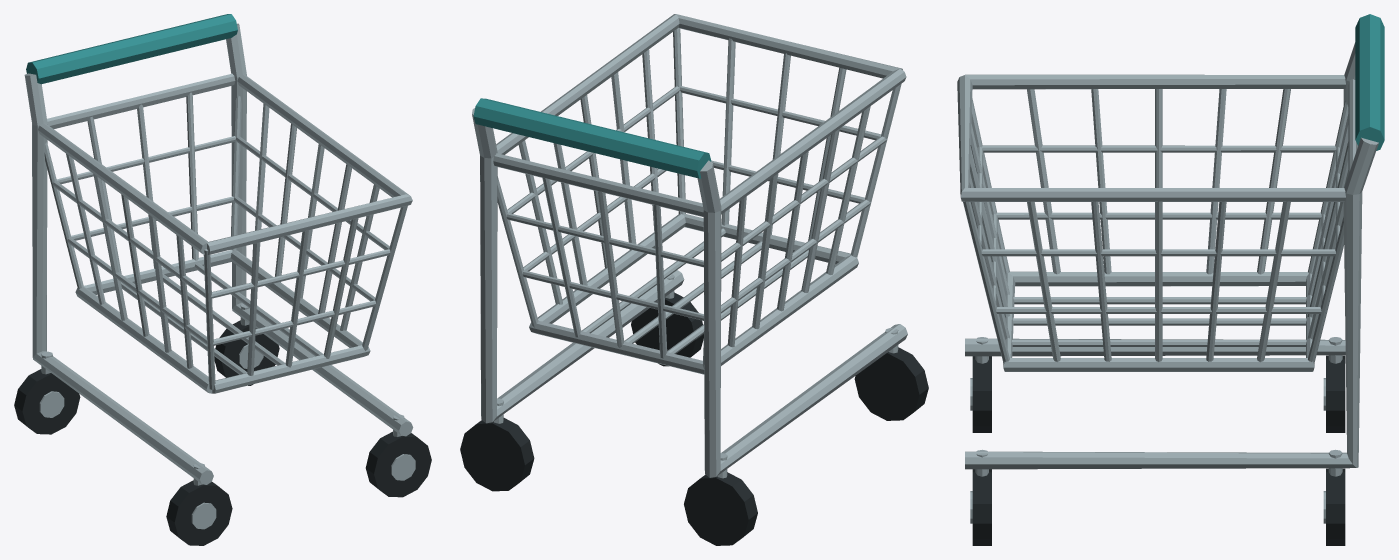
The model's file is Shopping_Cart.glb.
3 views of the same model, side by side, from view 1: azimuth 30°, elevation 25°; view 2: azimuth 150°, elevation 25°; view 3: azimuth 270°, elevation 25° (orthographic). The views are drawn at different scales.
Visible parts, largest first — view 1: Shopping_Cart; view 2: Shopping_Cart; view 3: Shopping_Cart.
Boxes of the visible parts, left/top/right/bottom form: Shopping_Cart: left=14, top=14, right=431, bottom=545; Shopping_Cart: left=460, top=14, right=928, bottom=545; Shopping_Cart: left=957, top=14, right=1384, bottom=545.
Bounding box in the file's own units: 0.8 × 1.06 × 0.992.
